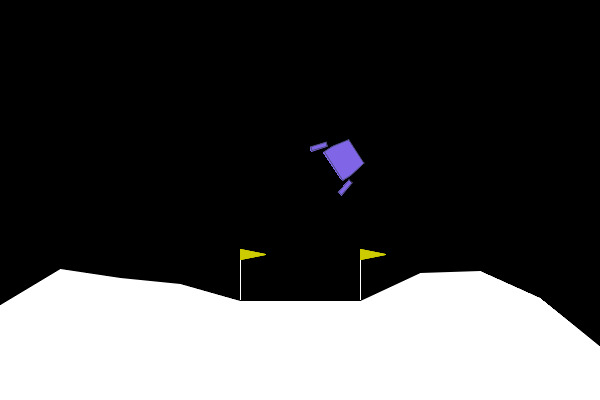lander: (308, 125, 374, 198)
